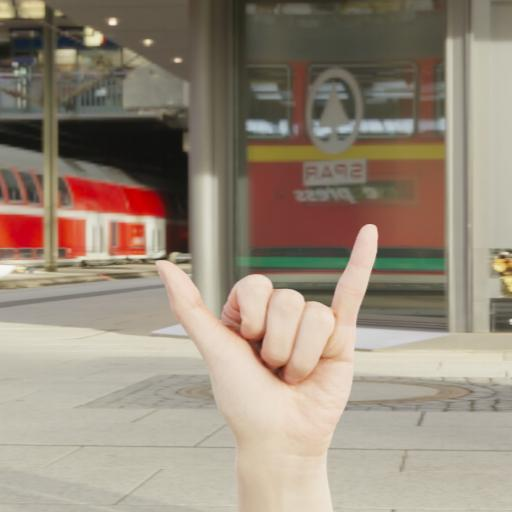Y: (143, 214, 395, 512)
